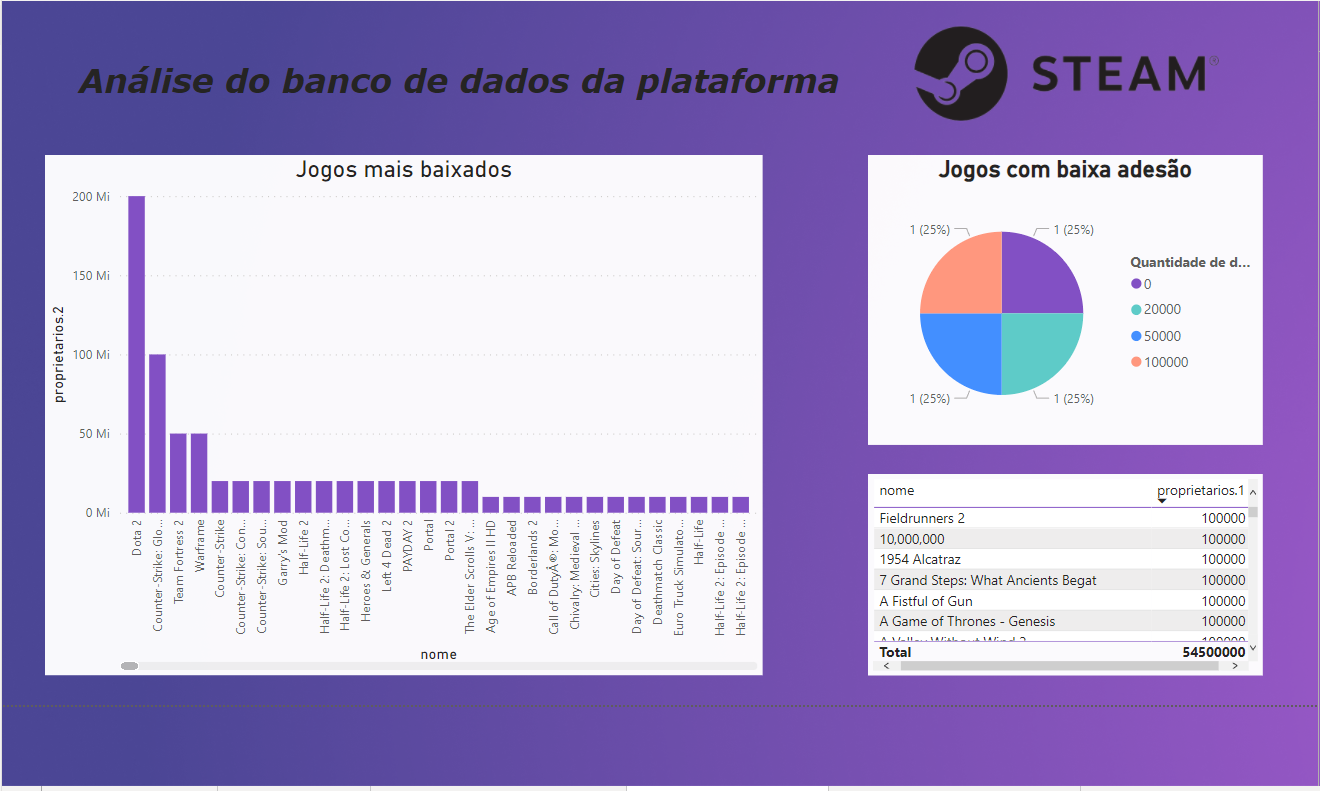

The page's visual inventory and layout, read from the dashboard file:
{"tool":"powerbi","page":{"name":"Jogos mais e menos baixados ","canvas":[1280,720],"ordinal":3},"visuals":[{"type":"image","box":[856.4,39.9,357.8,121.3],"z":0},{"type":"textbox","box":[41.6,87.7,805.9,52.3],"z":1000},{"type":"columnChart","title":"Jogos mais baixados","fields":{"Category":["bdsteam steam_dados.nome"],"Y":["Sum(bdsteam steam_dados.proprietarios.2)"]},"box":[41.8,184.8,698.4,505.8],"z":2000},{"type":"pieChart","title":"Jogos com baixa adesão","fields":{"Category":["bdsteam steam_dados.proprietarios.1"],"Y":["Count(bdsteam steam_dados.proprietarios.1)"]},"box":[842.3,184.8,384.2,282.1],"z":3000},{"type":"tableEx","fields":{"Values":["bdsteam steam_dados.nome","Sum(bdsteam steam_dados.proprietarios.1)"]},"box":[842.3,495.1,384.2,195.5],"z":4000}]}

Visuals, with their boxes on the page's 1280x720 design canvas (x1, y1, x2, y2). These are canvas units, not pixel positions in the 1320x791 screenshot, which may show the page scaled, cropped or inside an application window:
image: (856,40,1214,161)
textbox: (42,88,848,140)
"Jogos mais baixados" columnChart: (42,185,740,691)
"Jogos com baixa adesão" pieChart: (842,185,1226,467)
tableEx - bdsteam steam_dados.nome x Sum(bdsteam steam_dados.proprietarios.1): (842,495,1226,691)
